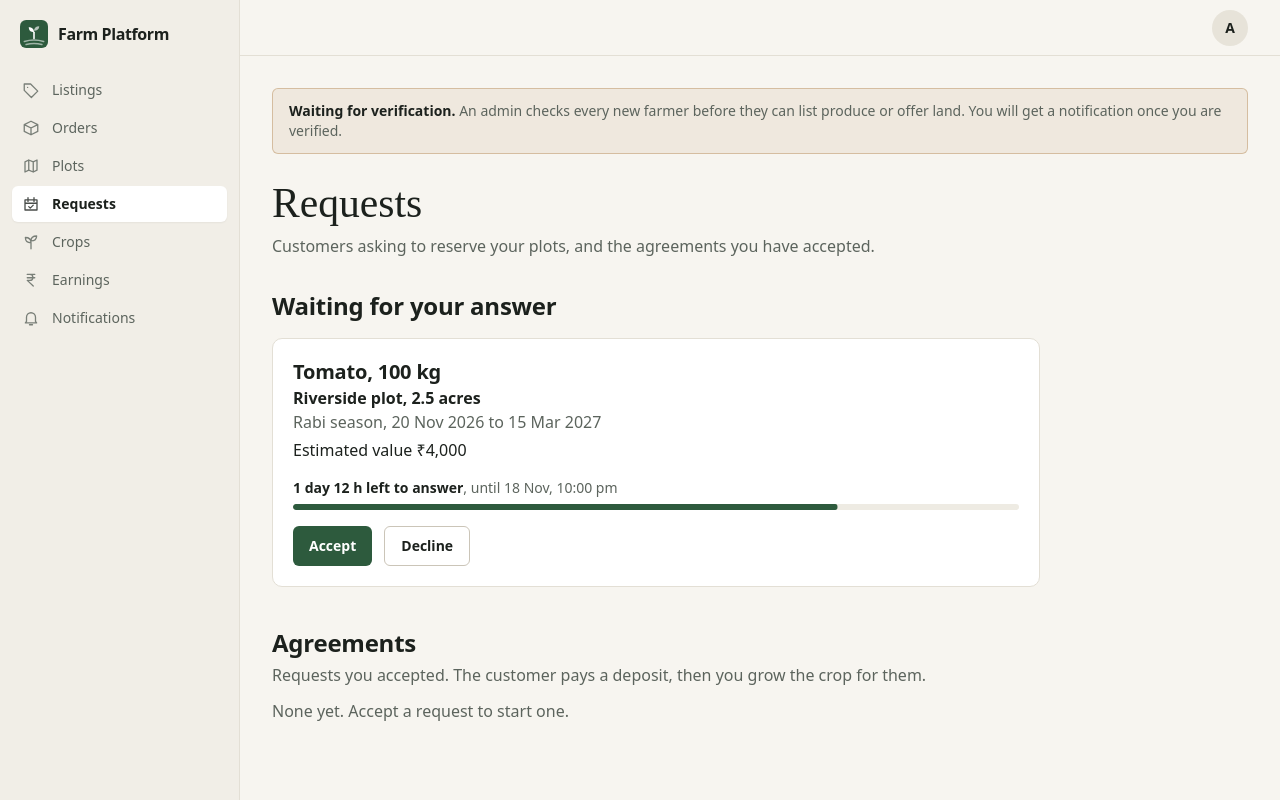
Test: farmer reservation requests › shows the server message when the request expired meanwhile
Click the button "Accept": (333, 546) [293,526,372,566]
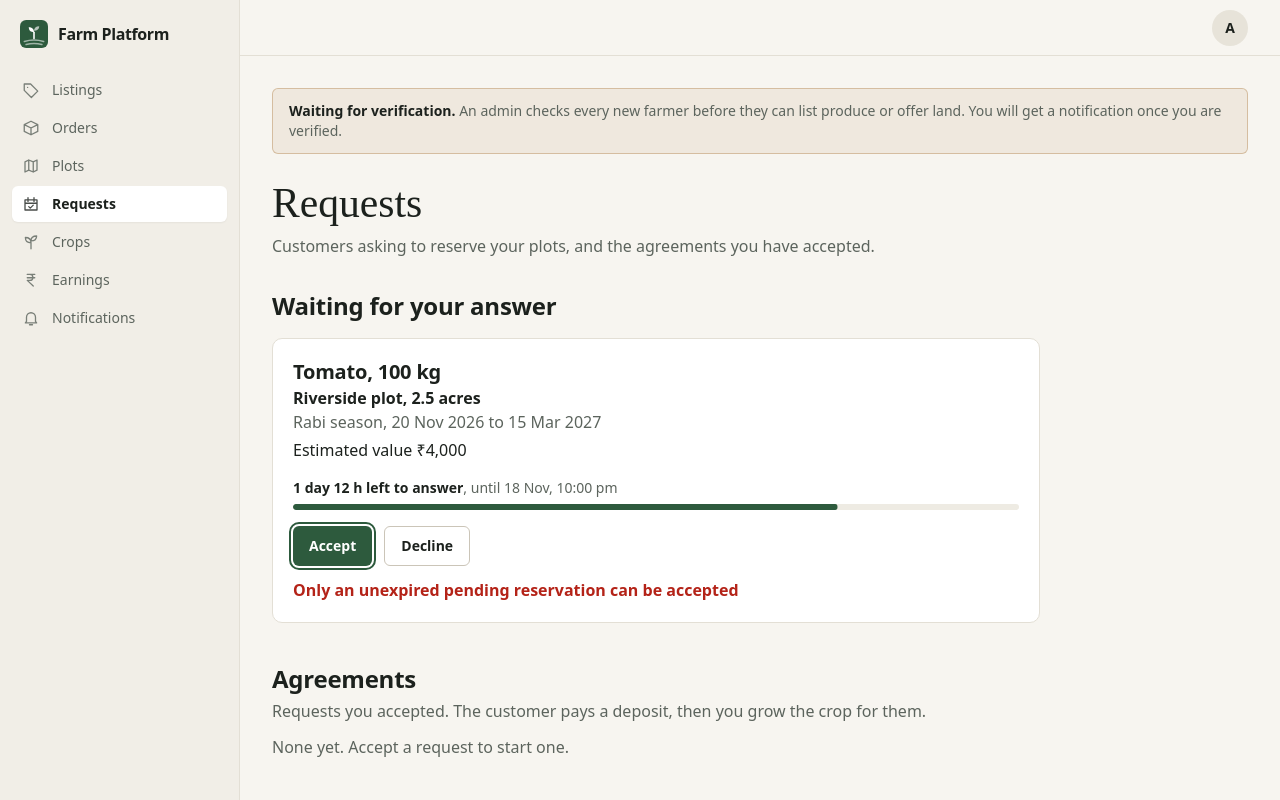
Expected: the message reads "Only an unexpired pending reservation can be accepted", [293,579,738,601]
